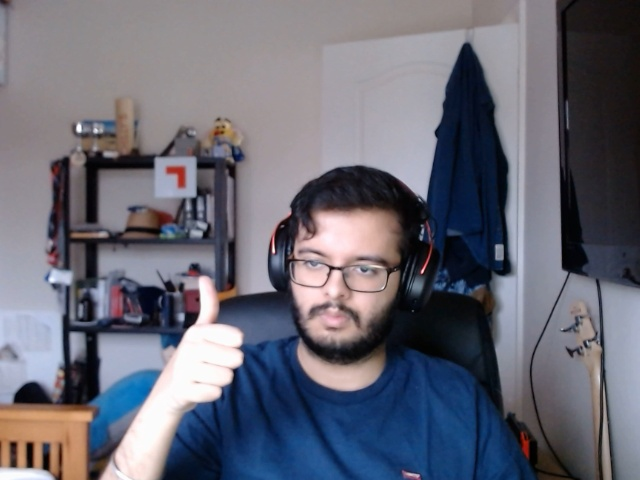Thumbs up: (163, 268, 255, 414)
